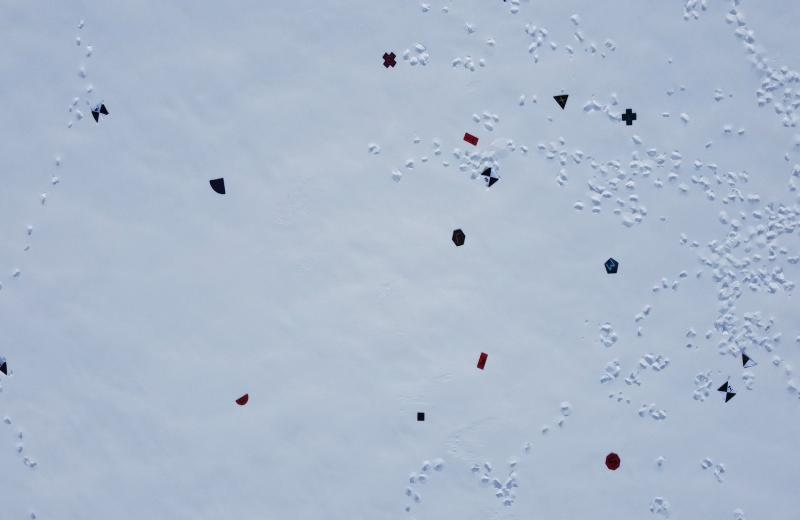Cross: (622, 106, 638, 127), (381, 50, 397, 70)
Hexagon: (452, 228, 465, 248)
Octagon: (605, 452, 621, 471)
Pentagon: (604, 258, 622, 276)
Quarter Circle: (209, 177, 227, 195)
Rectangle: (476, 350, 490, 371), (462, 130, 478, 148)
Semi Circle: (235, 394, 250, 406)
Square: (417, 411, 426, 422)
Triangle: (553, 91, 570, 109)
